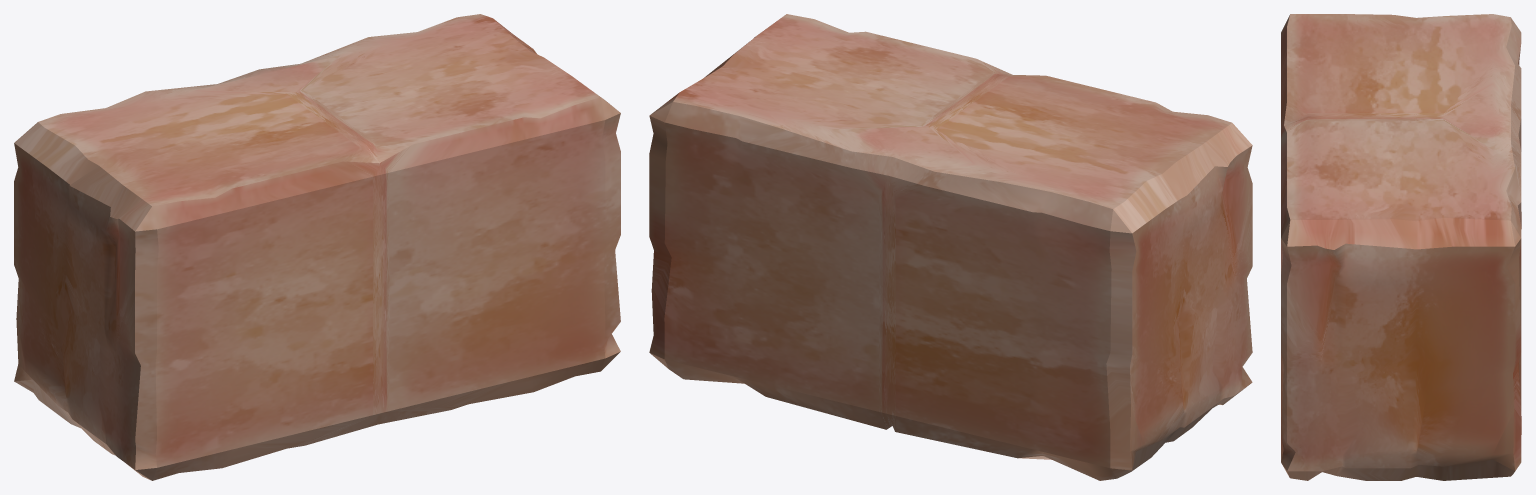
Rendered from sand_blockcap.fbx.
The picture shows the model from 3 angles, left to right: view 1: azimuth 30°, elevation 25°; view 2: azimuth 150°, elevation 25°; view 3: azimuth 270°, elevation 25°; orthographic projection. The views are drawn at different scales.
Parts seen in each view (by area): view 1: desert_blockcap; view 2: desert_blockcap; view 3: desert_blockcap.
Boxes of the visible parts, x1=… form: desert_blockcap: x1=14, y1=14, x2=620, y2=480; desert_blockcap: x1=649, y1=14, x2=1252, y2=480; desert_blockcap: x1=1281, y1=14, x2=1521, y2=480.
Size of the model in its own units: 220 by 120 by 100.
